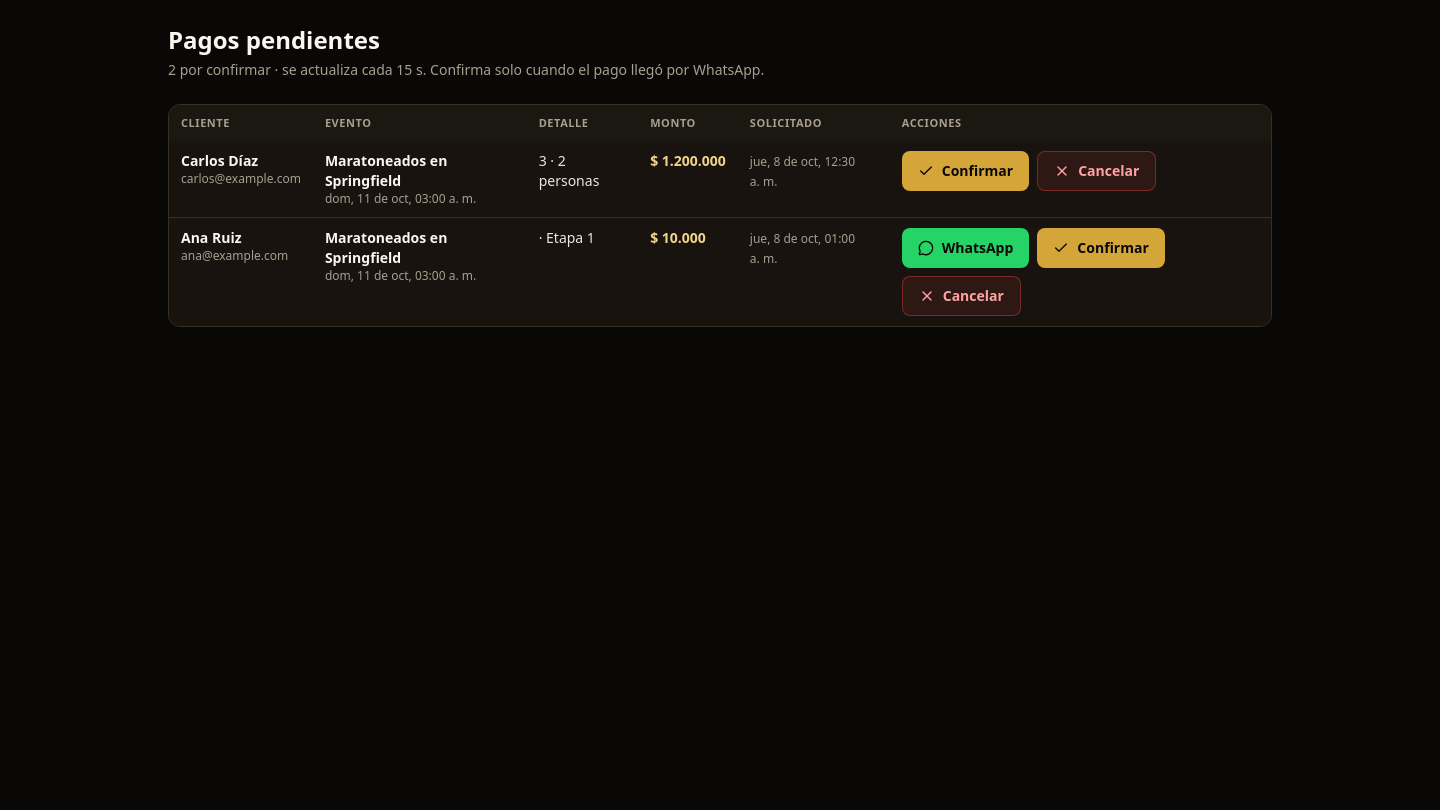
Test: AdminPaymentsPage › explica cuando otro miembro del equipo ya procesó el pago
The width and height of the screenshot is (1440, 810).
Click the button with aria-label "Confirmar pago de Ana Ruiz".
click(1101, 248)  # box [1037,228,1165,268]
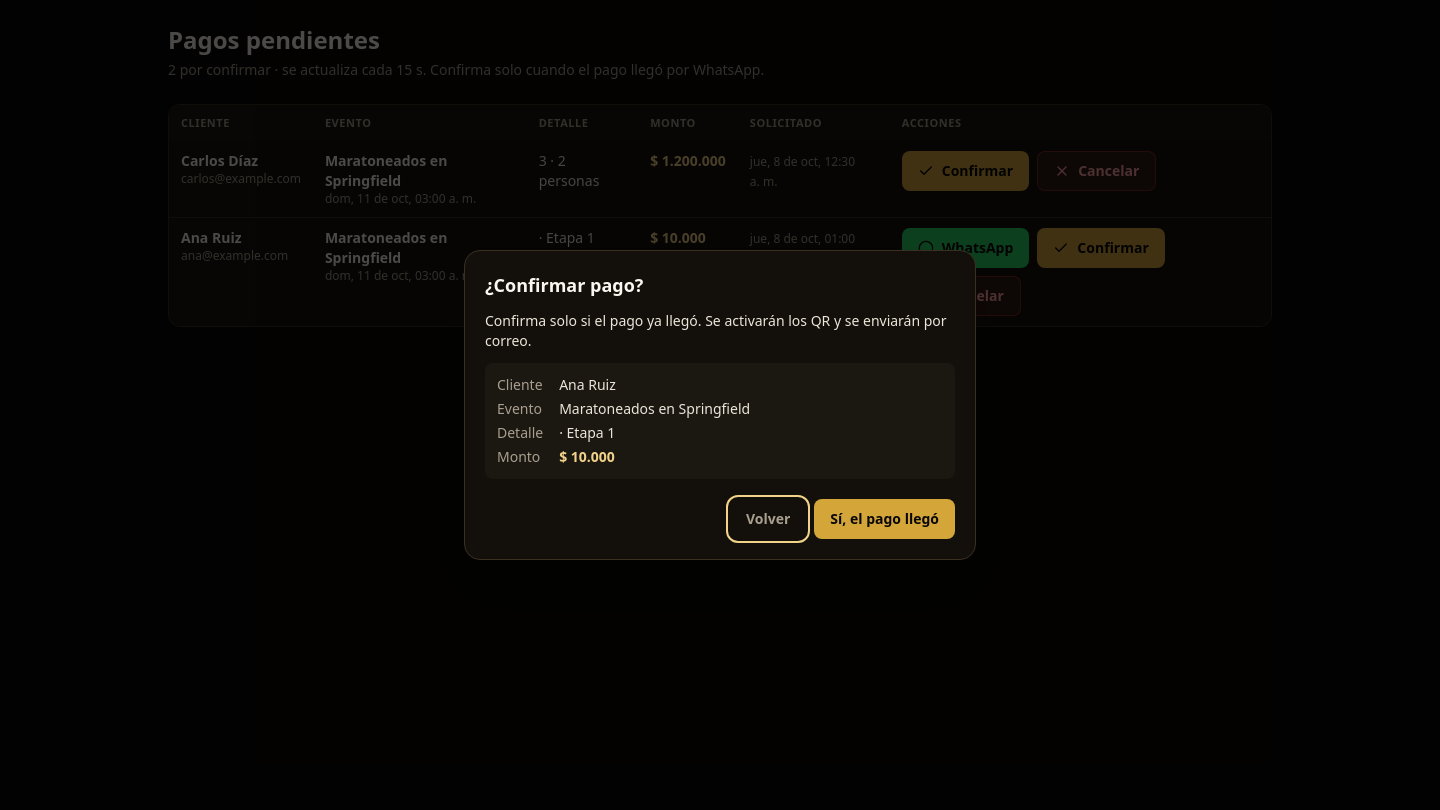
Click the button "Sí, el pago llegó".
click(885, 519)  # box [814,499,955,539]
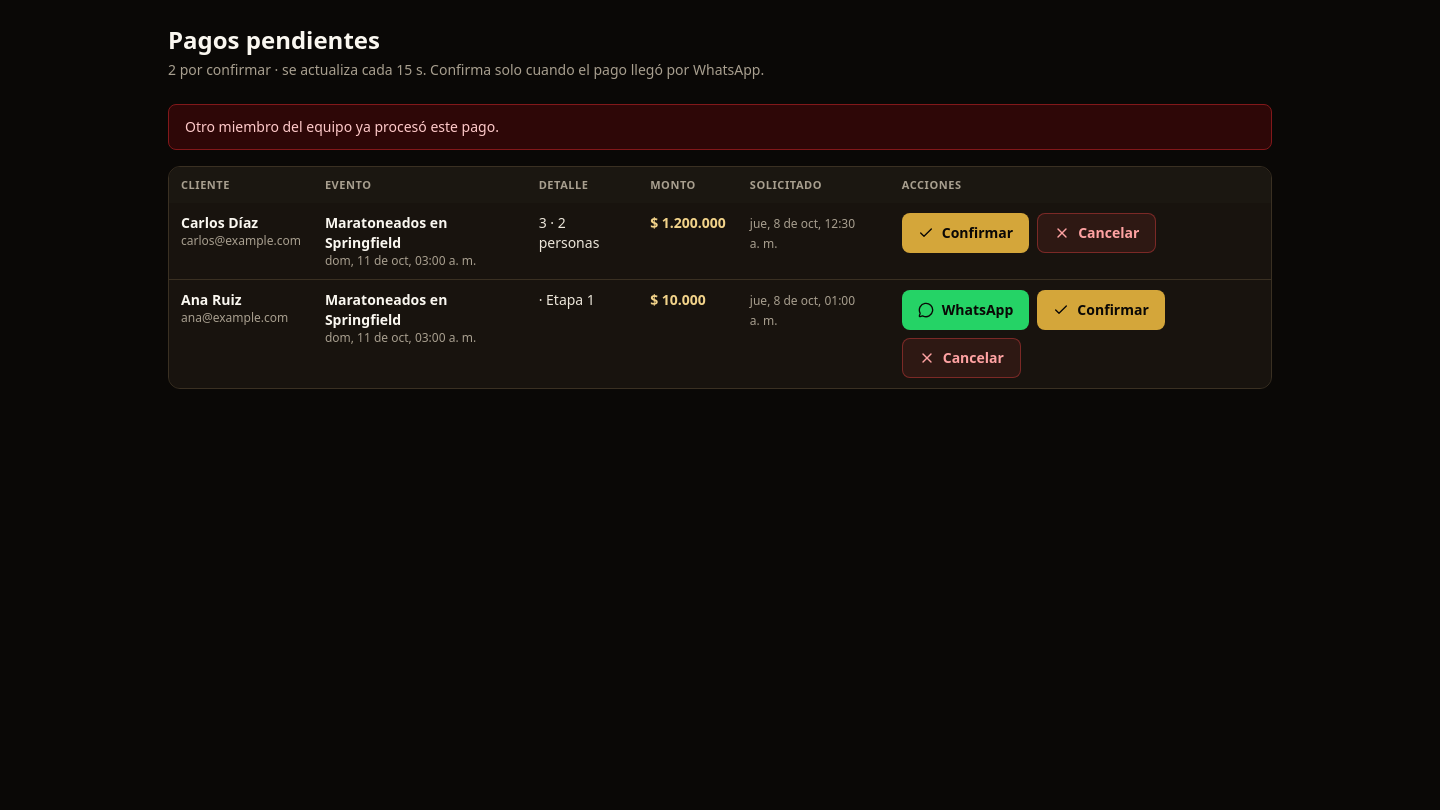
Check: the text "Otro miembro del equipo ya procesó este pago." is shown, box [168,104,1272,150]
